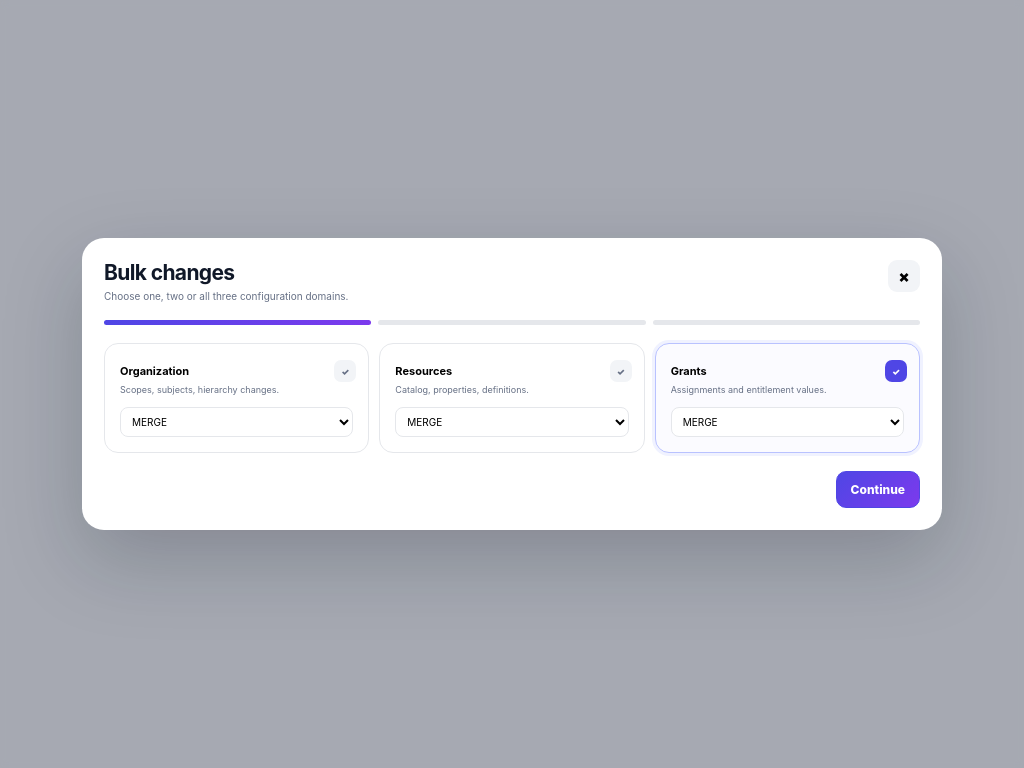
Test case: invalid projected state blocks Apply and auto-removals are impact
Click the button "Continue": (878, 489) 836,470 -> 920,508
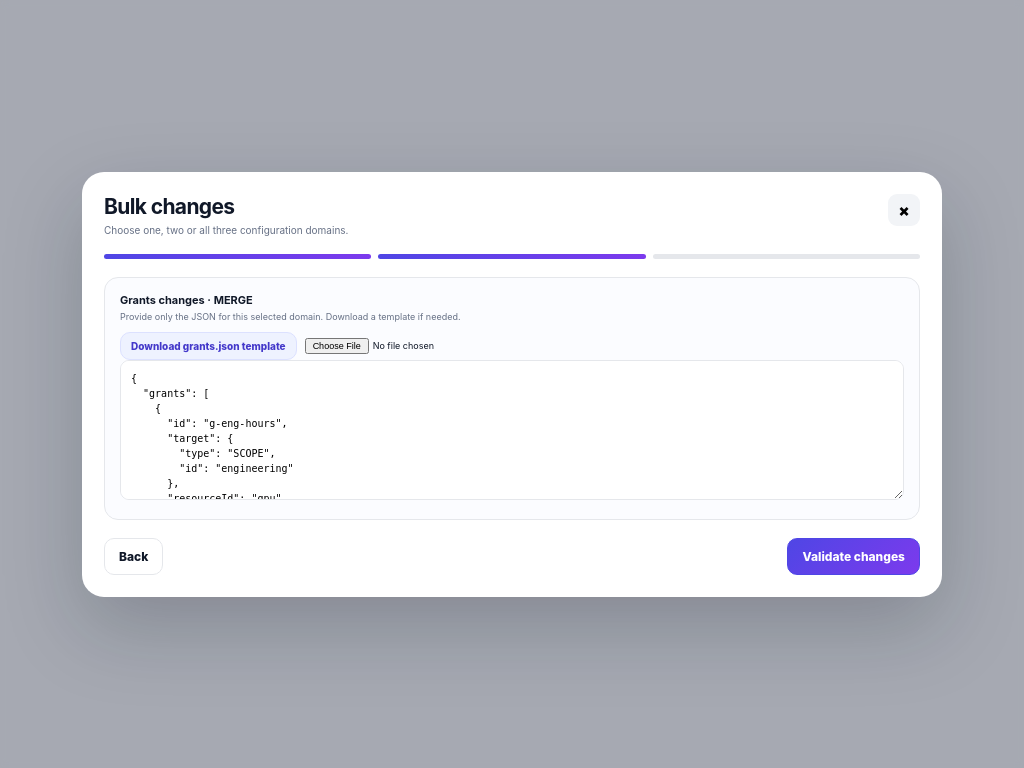
Click the button "Validate changes": (854, 556) 787,538 -> 920,574
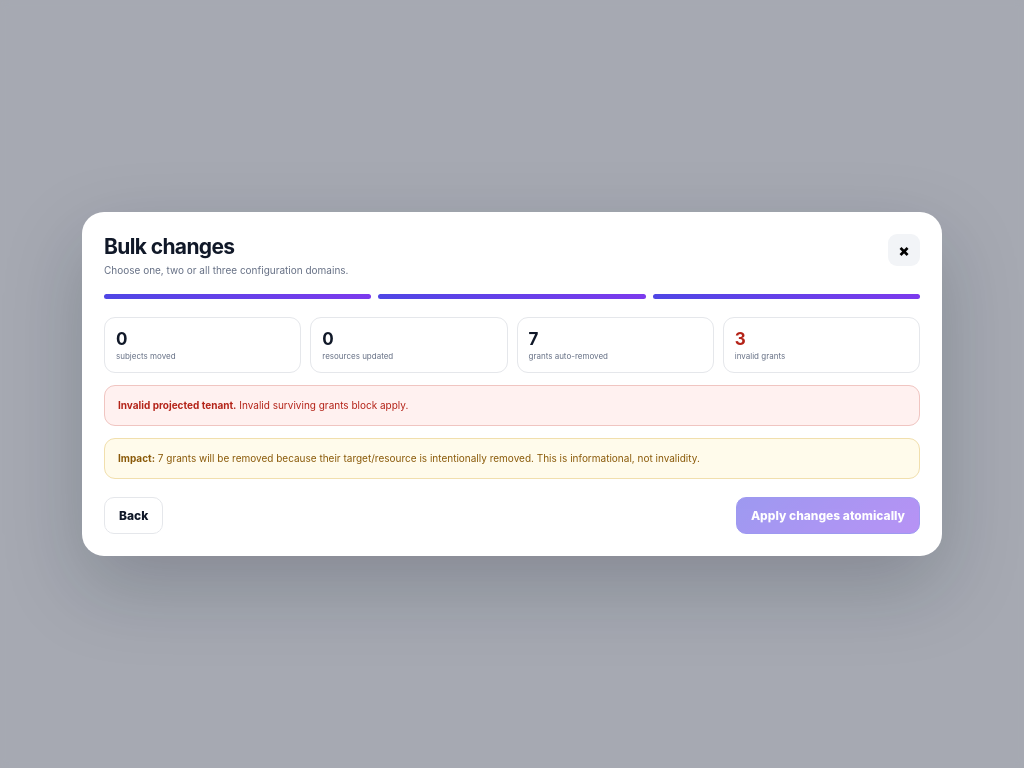
Expected: the text "Invalid surviving grants block apply" is shown, 239,399 -> 408,411
Expected: the text "7 grants will be removed" is shown, 104,438 -> 920,479
Expected: the button "Apply changes atomically" is disabled, 736,497 -> 920,534
